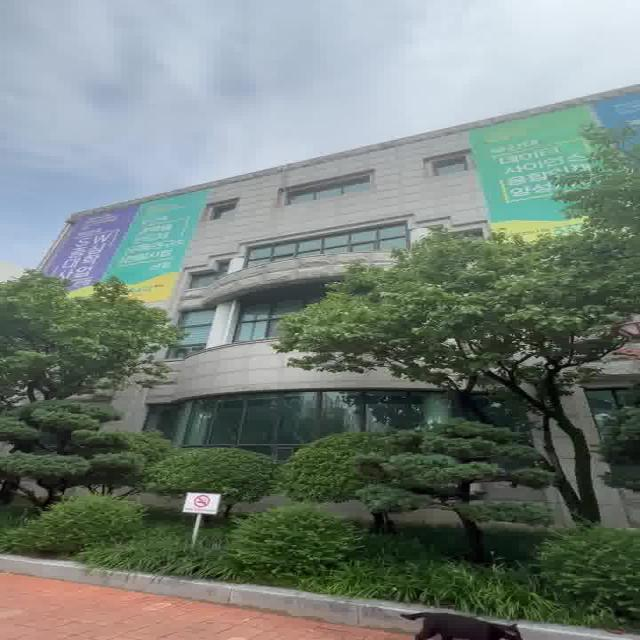building: (146, 170, 384, 396)
